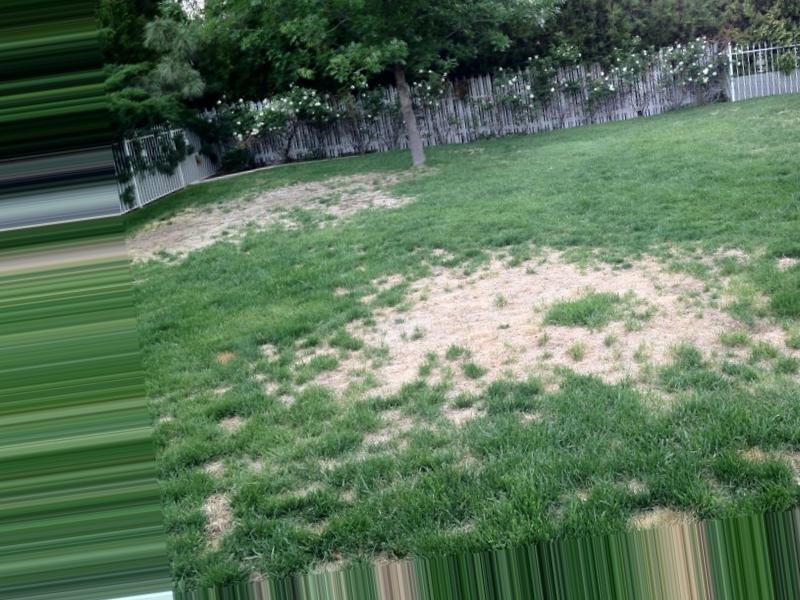patch: (404, 290, 534, 360), (198, 210, 245, 242), (527, 263, 575, 289), (593, 332, 630, 354)
